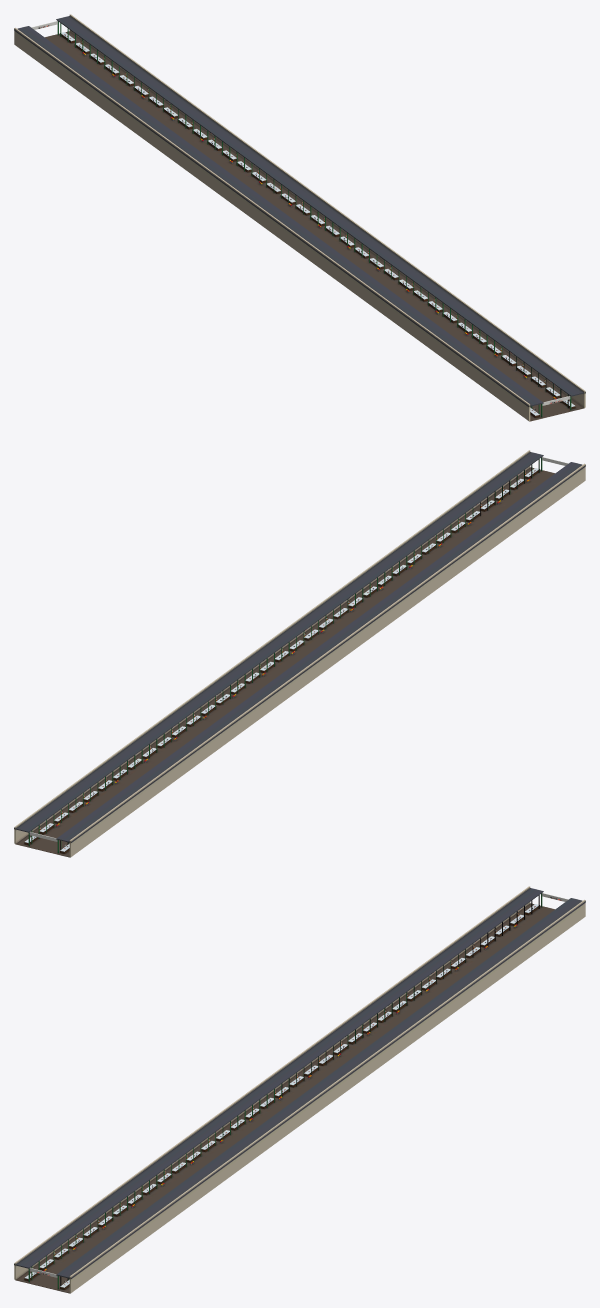
File: mercado_pescado.glb
The picture shows the model from 3 angles, top to bottom: view 1: azimuth 30°, elevation 25°; view 2: azimuth 150°, elevation 25°; view 3: azimuth 330°, elevation 25°; orthographic projection.
Visible parts, largest first — view 1: mercado_pescado; view 2: mercado_pescado; view 3: mercado_pescado.
Part boxes in pixels (left/top/right/bottom): mercado_pescado: left=14, top=14, right=585, bottom=421; mercado_pescado: left=14, top=450, right=585, bottom=857; mercado_pescado: left=14, top=886, right=585, bottom=1293.
Bounding box in the file's own units: 27 × 7.7 × 420.
Materials: 1 (1 with a texture image).
